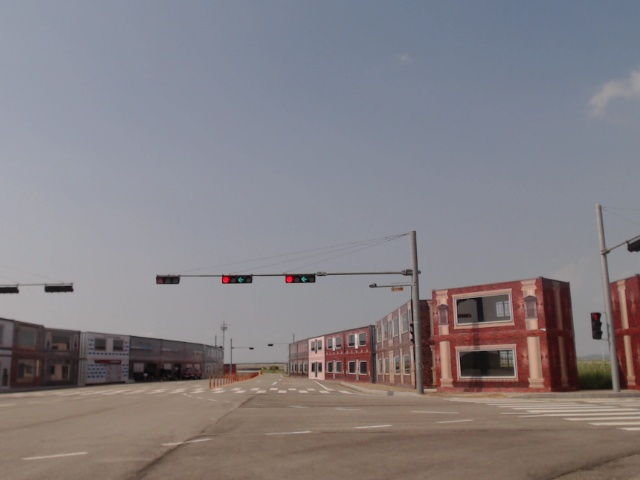left_green_4: (222, 276, 252, 284), (286, 275, 315, 283)
